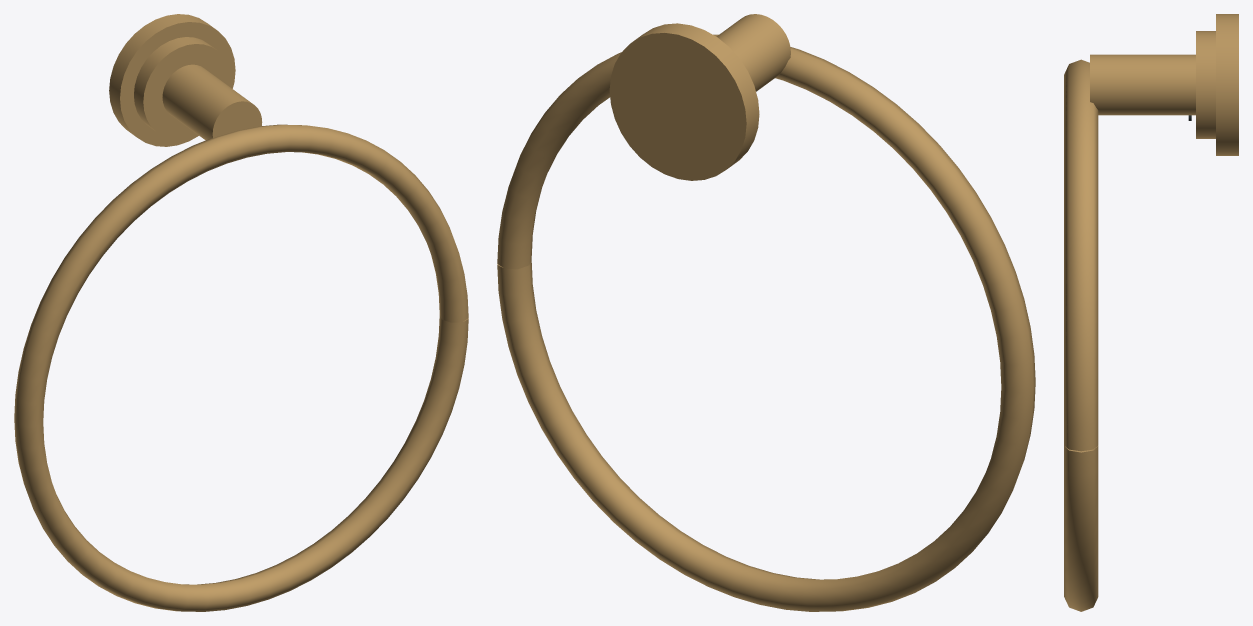
File: bath-towel-ring.glb
3 views of the same model, side by side, from view 1: azimuth 30°, elevation 25°; view 2: azimuth 150°, elevation 25°; view 3: azimuth 270°, elevation 25° (orthographic). The views are drawn at different scales.
Parts seen in each view (by area): view 1: catalog_surface_RealismUV; view 2: catalog_surface_RealismUV; view 3: catalog_surface_RealismUV.
Part boxes in pixels (left/top/right/bottom): catalog_surface_RealismUV: left=14, top=14, right=468, bottom=611; catalog_surface_RealismUV: left=497, top=14, right=1035, bottom=611; catalog_surface_RealismUV: left=1064, top=14, right=1238, bottom=611.
Bounding box in the file's own units: 0.22 × 0.25 × 0.07.
